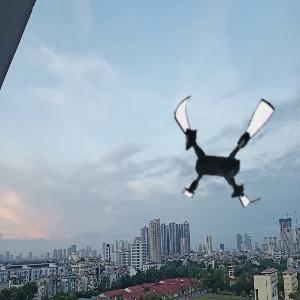drone: (163, 85, 287, 209)
